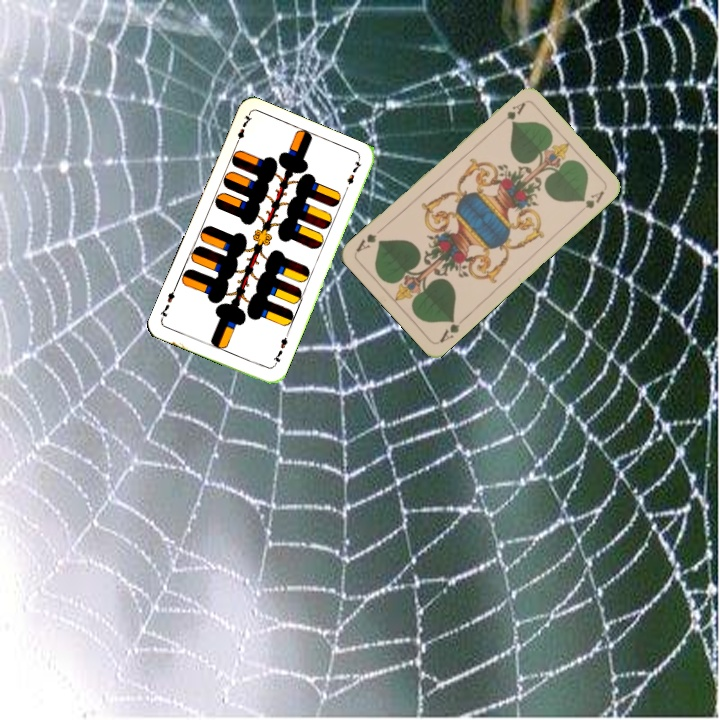E7: (231, 110, 255, 149), (268, 331, 291, 370)
GA: (435, 313, 468, 345), (494, 98, 528, 129)
